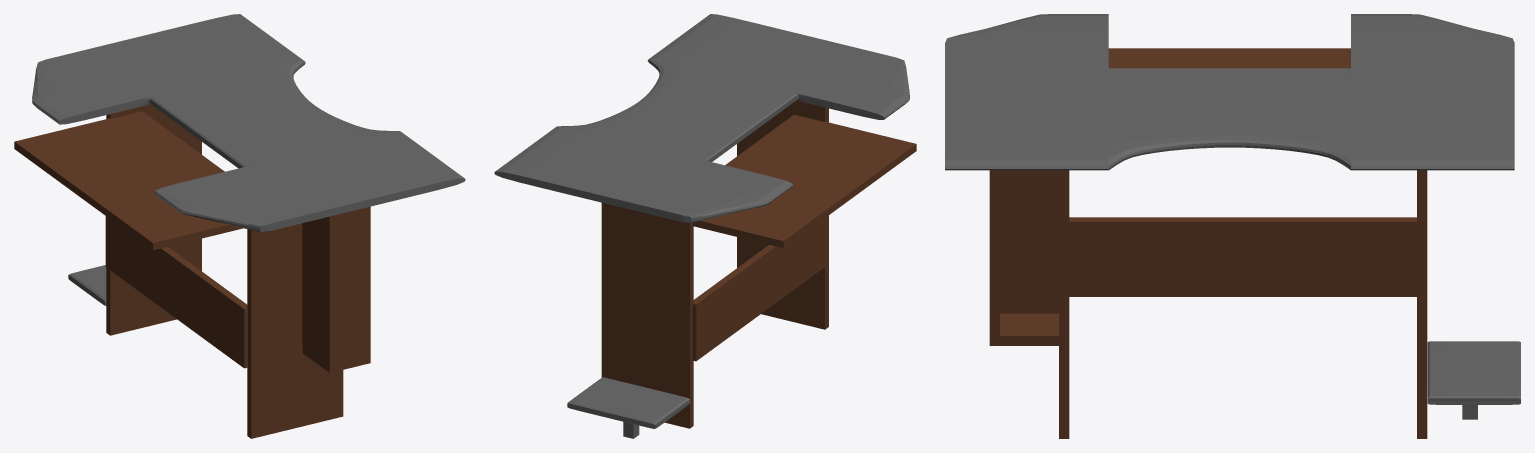
The model's file is ComputerTable.fbx.
The picture shows the model from 3 angles, left to right: view 1: azimuth 30°, elevation 25°; view 2: azimuth 150°, elevation 25°; view 3: azimuth 270°, elevation 25°; orthographic projection. The views are drawn at different scales.
Visible parts, largest first — view 1: pöytä.005, pöytä; view 2: pöytä, pöytä.005; view 3: pöytä, pöytä.005.
Part boxes in pixels (x1,y1,x2,y2): pöytä.005: [14, 104, 370, 438]; pöytä: [32, 14, 465, 305]; pöytä: [494, 14, 909, 438]; pöytä.005: [601, 100, 916, 428]; pöytä: [945, 14, 1520, 419]; pöytä.005: [989, 48, 1427, 438].
Size of the model in its own units: 74.87 by 70.31 by 111.
